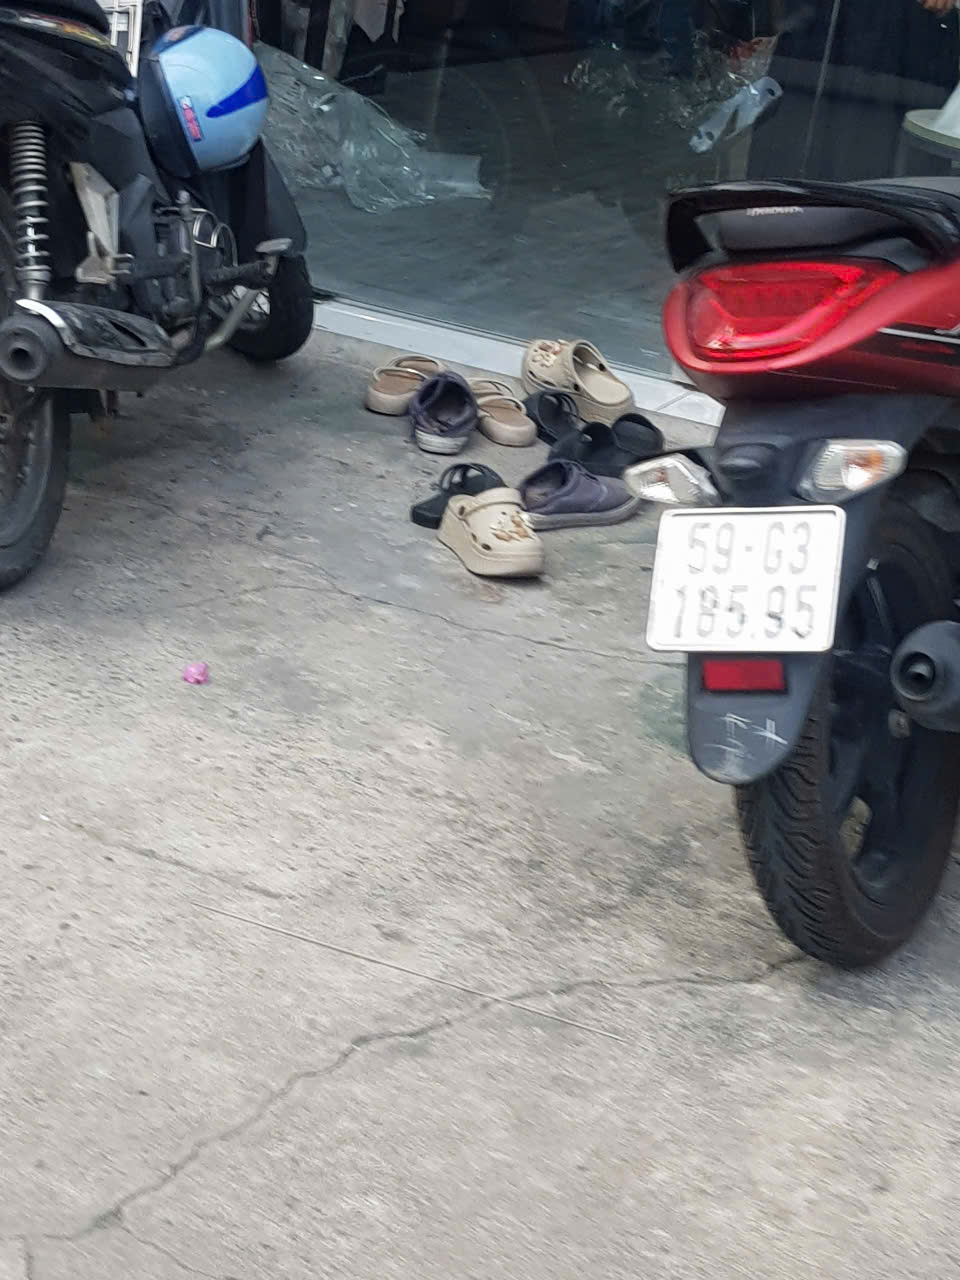bien_so: (648, 510, 840, 650)
